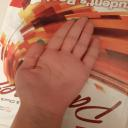OpenPalm: (14, 15, 101, 110)
